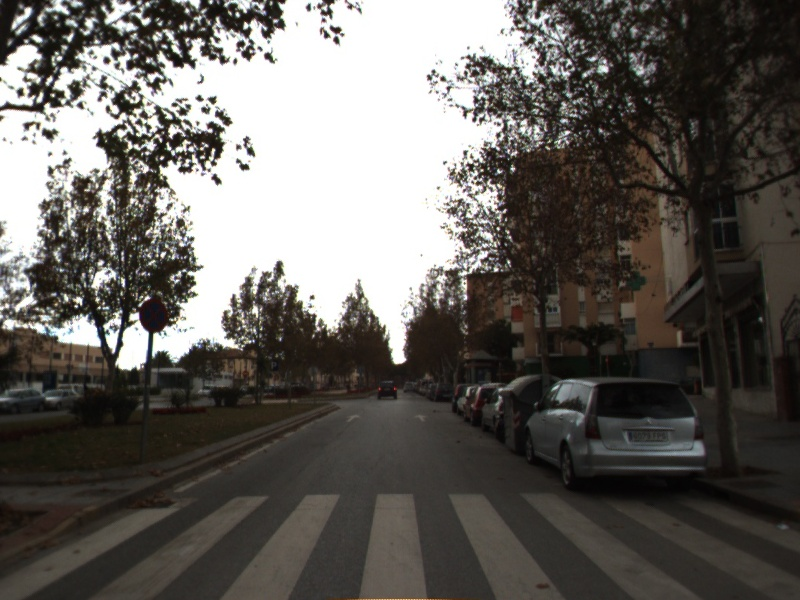STRAIGHT: (344, 413, 363, 424), (412, 412, 429, 423)
